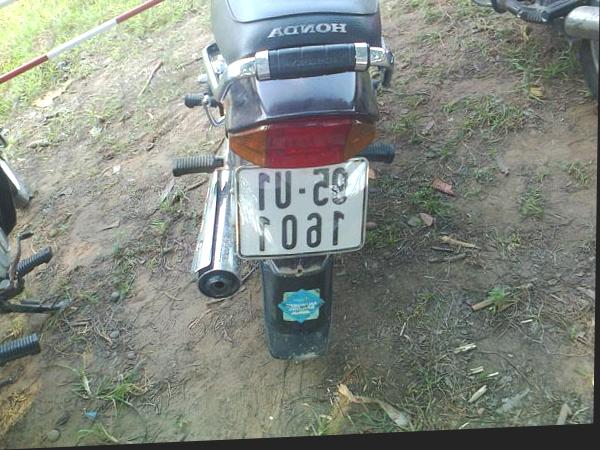License_Plate: (241, 159, 365, 257)
